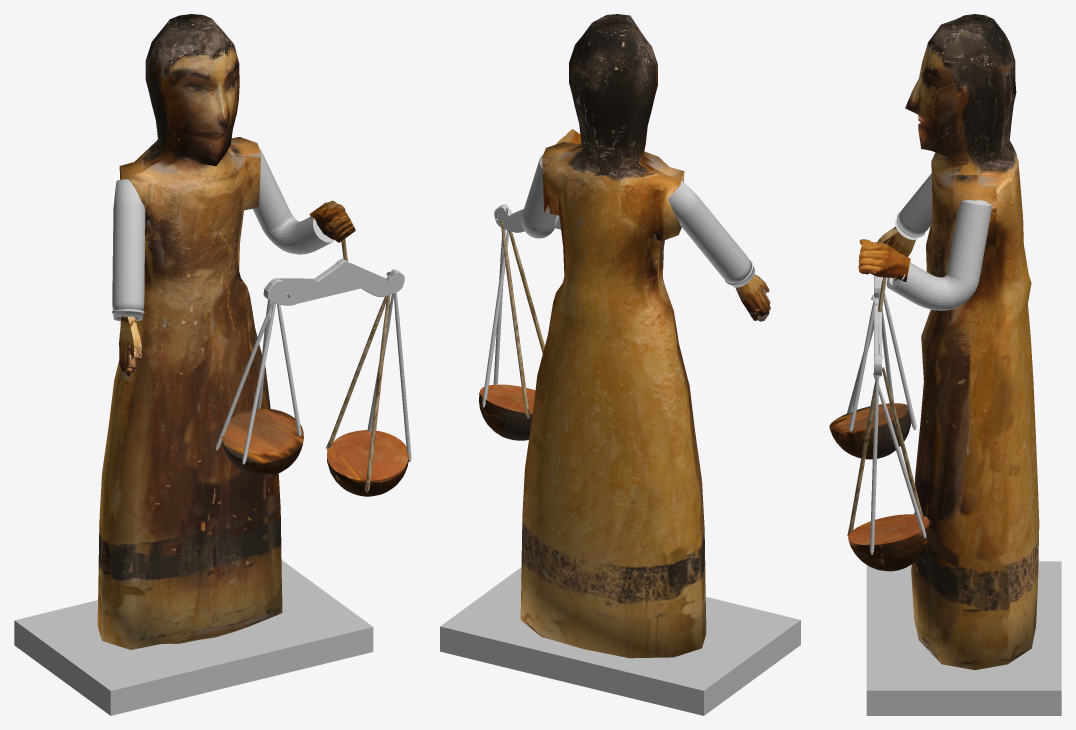
File: michael19.fbx
3 views of the same model, side by side, from view 1: azimuth 30°, elevation 25°; view 2: azimuth 150°, elevation 25°; view 3: azimuth 270°, elevation 25° (orthographic).
Visible parts, largest first — view 1: Body; view 2: Body; view 3: Body.
Boxes of the visible parts, x1,y1,x2,y2 form: Body: [14, 14, 411, 715]; Body: [440, 14, 800, 715]; Body: [829, 14, 1061, 715].
Bounding box in the file's own units: 16.17 × 31.79 × 10.59.
